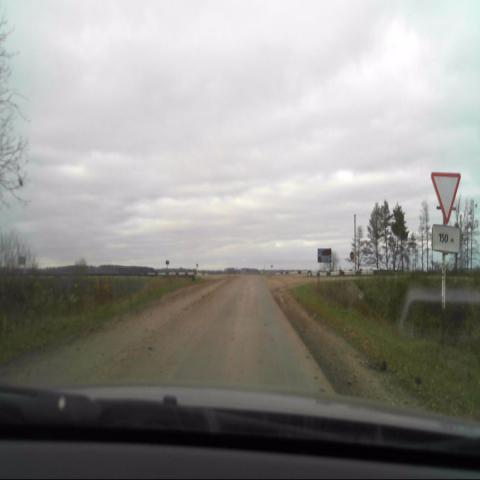8_1_1: (433, 226, 462, 256)
